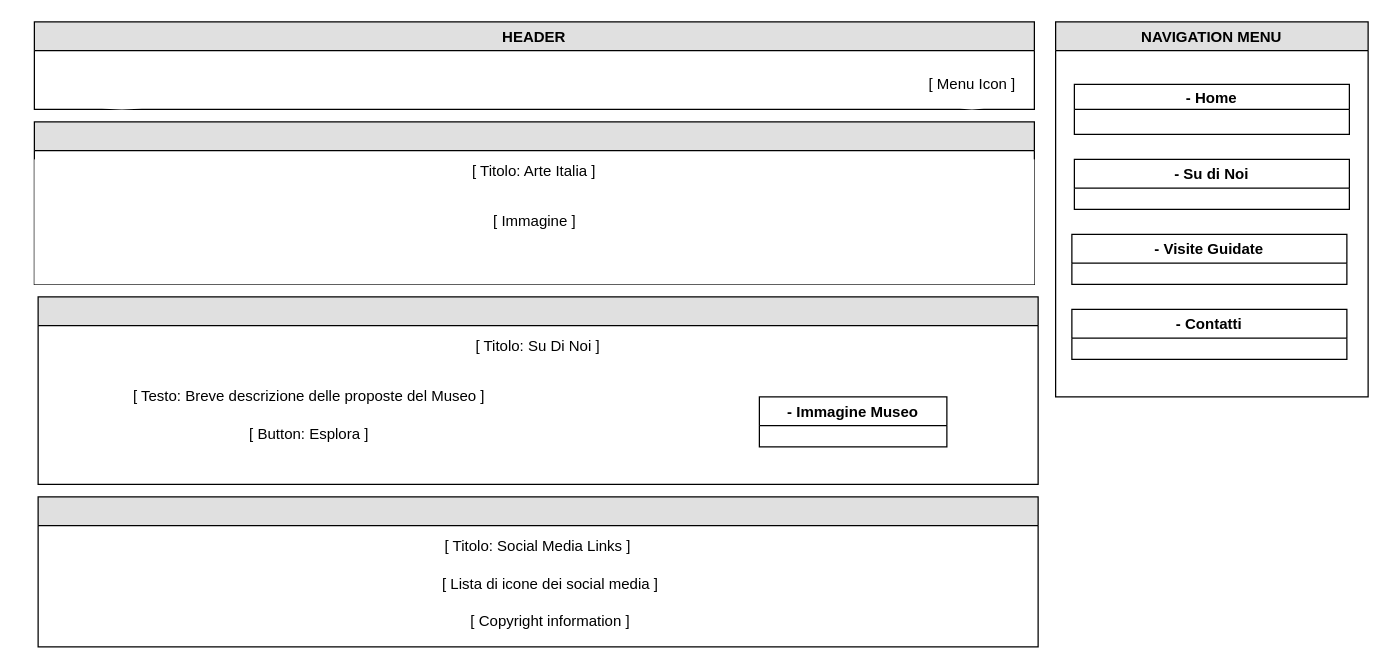
Image size: 1390x669. Some labels were removed from this diagram. The shapes that lost their labels are listed below. From the top down, each one's box as (x1, y1, x2, y2) in pixels, then its label:
(59, 59, 184, 109): [ Logo ]
(33, 121, 1034, 284): HERO SECTION
(37, 296, 1038, 484): SU DI NOI SECTION
(37, 496, 1038, 647): FOOTER SECTION
